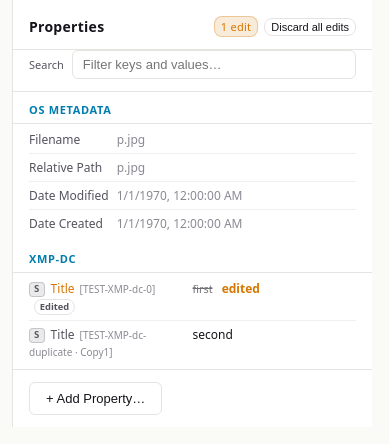
Test case: DetailsPane: Group context menu › uses exact supplemental Remove and Discard actions for multiple occurrences
Right-click the row with test id "details-row" that starts with "Title" at (192,298), box [29,275,356,321]
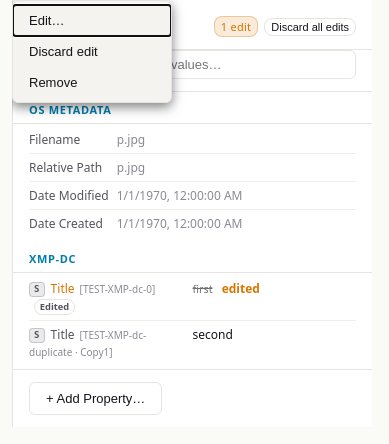
Expected: the button "Remove" is shown, [13,67,171,98]
Expected: the button "Discard edit" is shown, [13,36,171,67]
